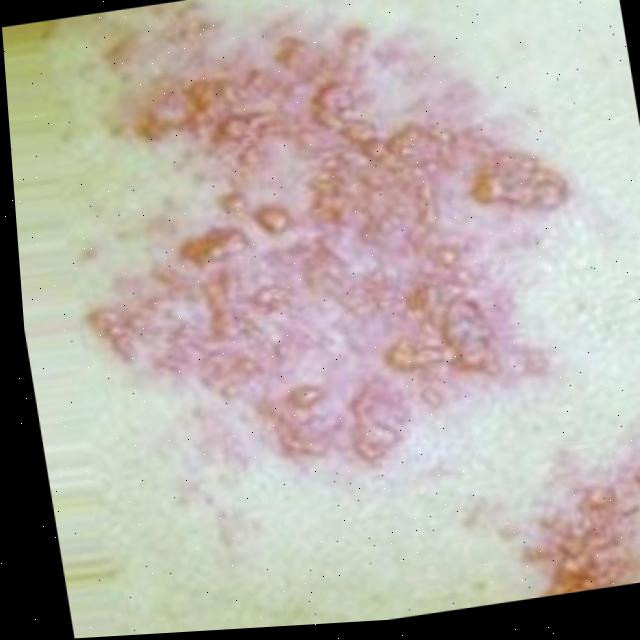Shingles: (72, 0, 608, 489), (506, 409, 640, 598)
